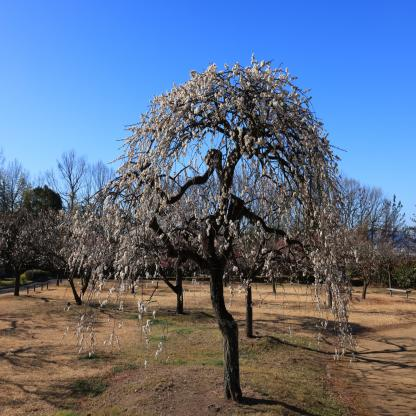Ume: (60, 50, 362, 372)
